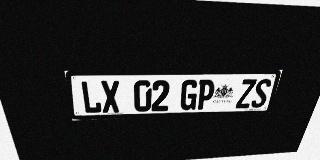0: (134, 80, 152, 112)
2: (152, 80, 170, 111)
G: (179, 80, 199, 110)
L: (80, 81, 102, 114)
P: (196, 79, 216, 110)
S: (250, 79, 272, 108)
X: (100, 80, 120, 113)
Z: (235, 79, 257, 108)
